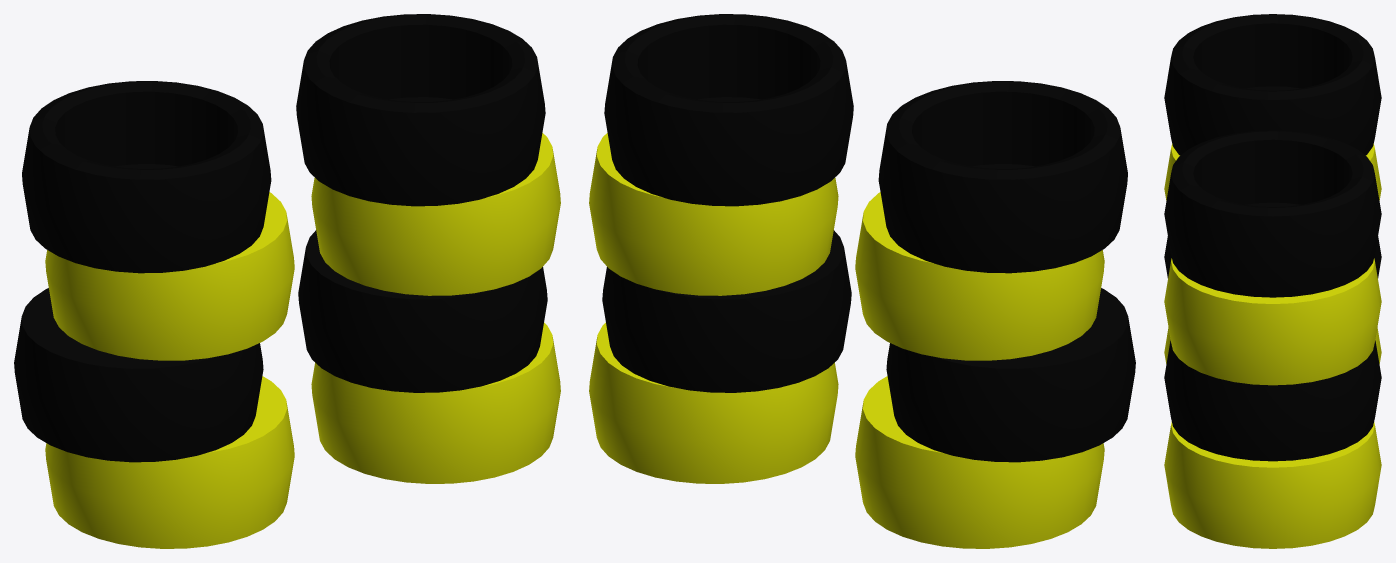
Rendered from Contenção de pneu.fbx.
3 views of the same model, side by side, from view 1: azimuth 30°, elevation 25°; view 2: azimuth 150°, elevation 25°; view 3: azimuth 270°, elevation 25° (orthographic). The views are drawn at different scales.
Visible parts, largest first — view 1: Cylinder.003, Cylinder.007, Cylinder.005, Cylinder.001, Cylinder, Cylinder.004, Cylinder.002, Cylinder.006; view 2: Cylinder.003, Cylinder.007, Cylinder.005, Cylinder.001, Cylinder, Cylinder.004, Cylinder.002, Cylinder.006; view 3: Cylinder.003, Cylinder.007, Cylinder.002, Cylinder, Cylinder.001, Cylinder.006, Cylinder.005.
Boxes of the visible parts, left/top/right/bottom form: Cylinder.003: left=296, top=14, right=545, bottom=206; Cylinder.007: left=22, top=81, right=271, bottom=273; Cylinder.005: left=14, top=288, right=263, bottom=462; Cylinder.001: left=298, top=230, right=547, bottom=392; Cylinder: left=311, top=322, right=560, bottom=483; Cylinder.004: left=45, top=376, right=294, bottom=548; Cylinder.002: left=311, top=133, right=560, bottom=295; Cylinder.006: left=45, top=192, right=294, bottom=360; Cylinder.003: left=604, top=14, right=853, bottom=206; Cylinder.007: left=878, top=81, right=1127, bottom=273; Cylinder.005: left=886, top=288, right=1135, bottom=462; Cylinder.001: left=602, top=230, right=851, bottom=392; Cylinder: left=589, top=322, right=838, bottom=483; Cylinder.004: left=855, top=376, right=1104, bottom=548; Cylinder.002: left=589, top=133, right=838, bottom=295; Cylinder.006: left=855, top=192, right=1104, bottom=360; Cylinder.003: left=1164, top=130, right=1381, bottom=297; Cylinder.007: left=1164, top=14, right=1381, bottom=155; Cylinder.002: left=1164, top=258, right=1381, bottom=385; Cylinder: left=1164, top=422, right=1381, bottom=548; Cylinder.001: left=1164, top=340, right=1381, bottom=461; Cylinder.006: left=1164, top=143, right=1381, bottom=200; Cylinder.005: left=1164, top=236, right=1381, bottom=277.
Size of the model in its own units: 506 by 357 by 213.
